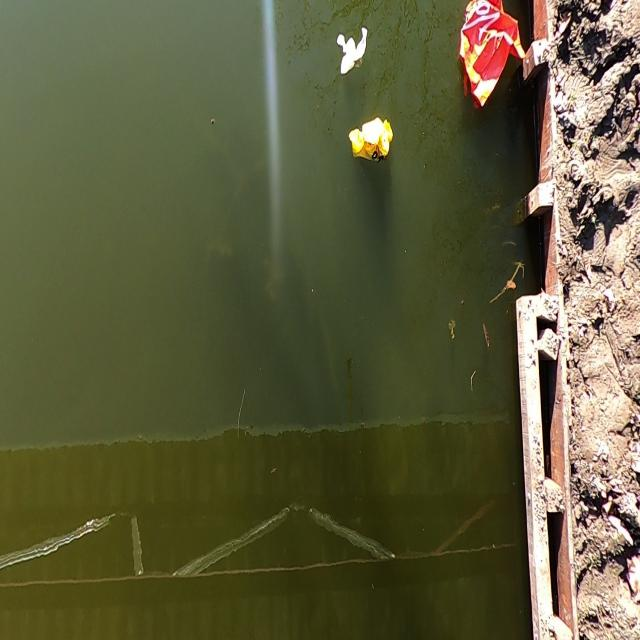Sac plastique: (454, 0, 525, 112), (345, 109, 396, 171), (330, 13, 372, 79)
